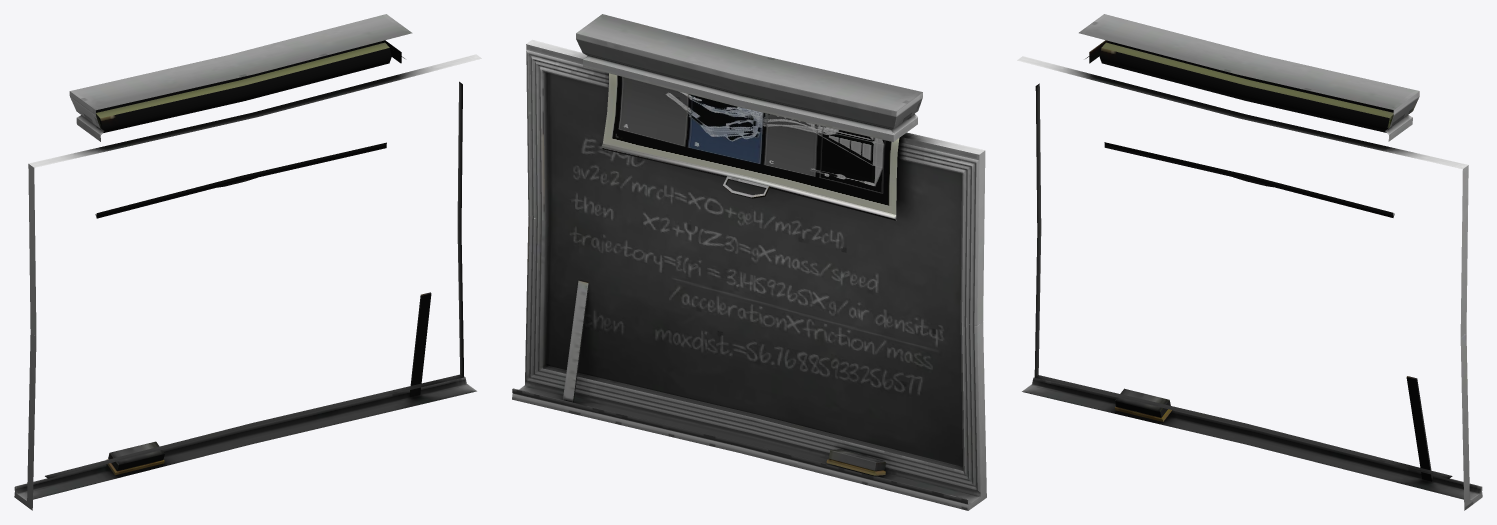
3 views of the same model, side by side, from view 1: azimuth 30°, elevation 25°; view 2: azimuth 150°, elevation 25°; view 3: azimuth 330°, elevation 25° (orthographic).
Parts seen in each view (by area): view 1: body0_model0_lod0_mesh0; view 2: body0_model0_lod0_mesh0; view 3: body0_model0_lod0_mesh0.
Boxes of the visible parts, box(x1,y1,x2,y2) form: body0_model0_lod0_mesh0: box(14, 14, 481, 510); body0_model0_lod0_mesh0: box(512, 14, 986, 510); body0_model0_lod0_mesh0: box(1017, 14, 1482, 510).
Bounding box in the file's own units: 131 × 107 × 13.2.
Materials: 1 (1 with a texture image).
